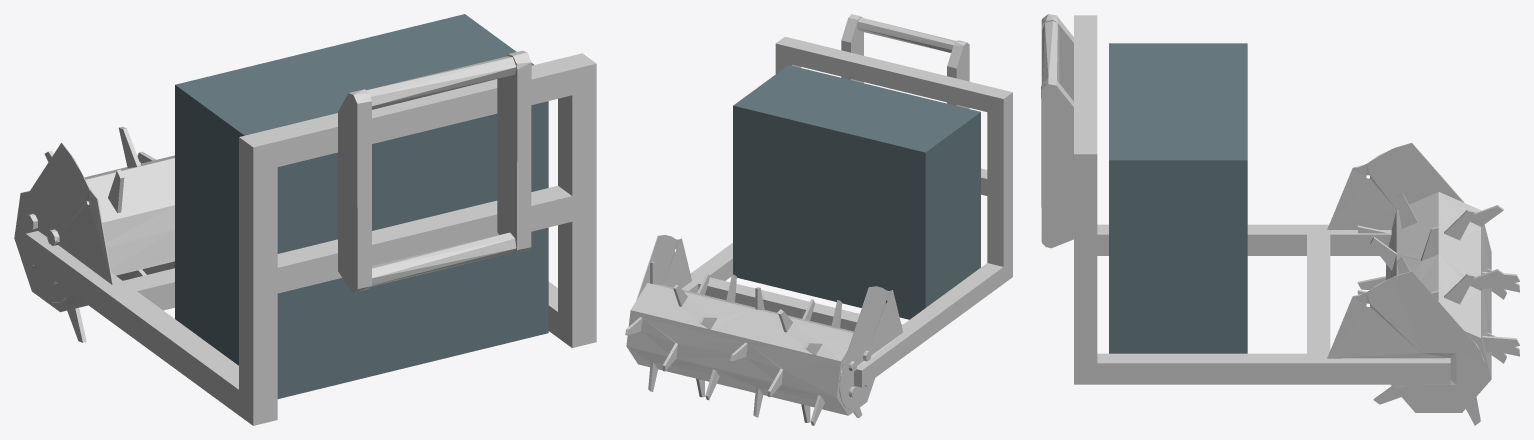
The model's file is rockgrinder.dae.
3 renders of one model, left to right at view 1: azimuth 30°, elevation 25°; view 2: azimuth 150°, elevation 25°; view 3: azimuth 270°, elevation 25°, orthographic. The views are drawn at different scales.
Visible parts, largest first — view 1: Rockgrinder; view 2: Rockgrinder; view 3: Rockgrinder.
Part boxes in pixels (box(x1,y1,x2,y2)): Rockgrinder: box(14, 14, 596, 425); Rockgrinder: box(625, 14, 1012, 425); Rockgrinder: box(1041, 14, 1519, 425).
Bounding box in the file's own units: 0.3554 × 0.5183 × 0.3956.
